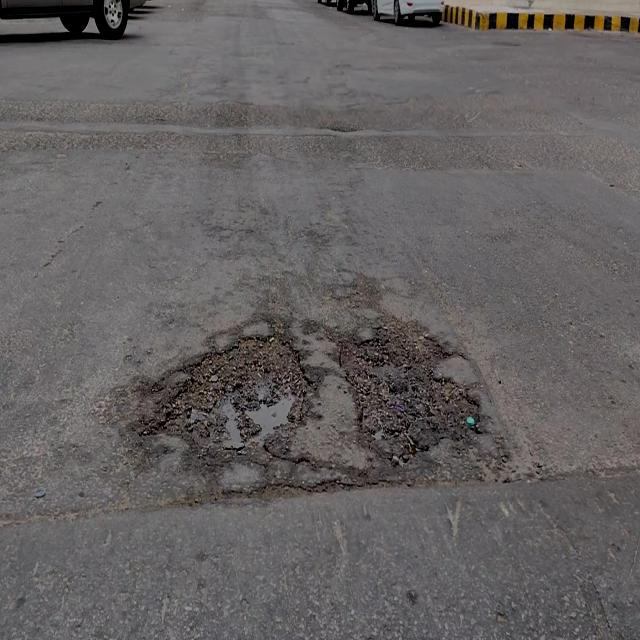Potholes: (170, 331, 307, 458), (341, 327, 478, 439)
